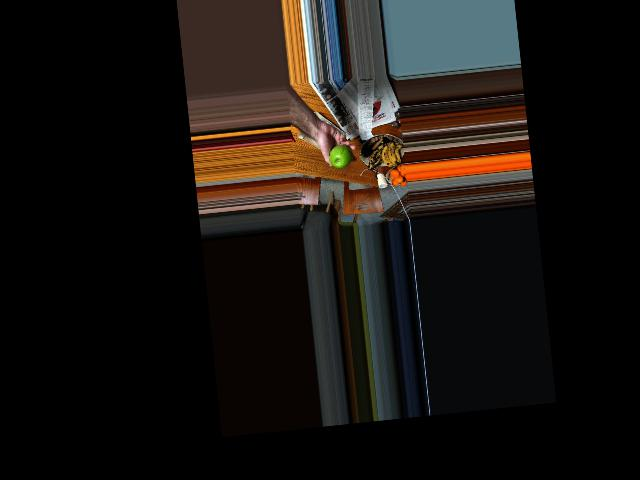apple: (327, 143, 353, 169)
